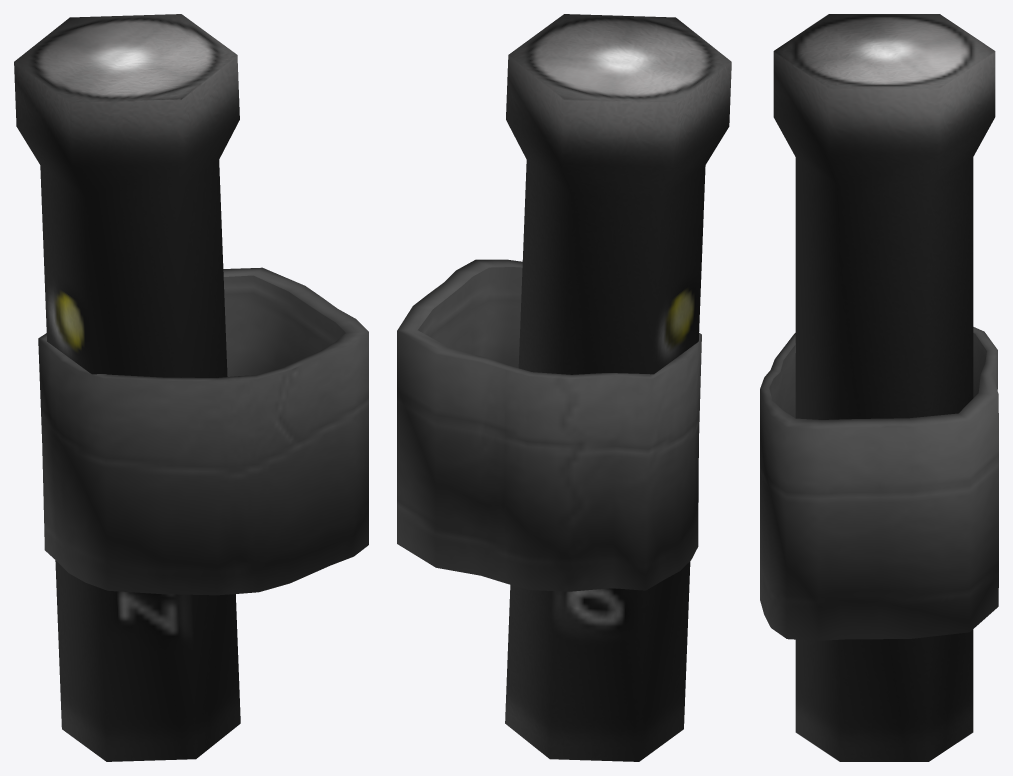
Rendered from TLOG_WeaponFlashlightDoubleBarrel.fbx.
3 views of the same model, side by side, from view 1: azimuth 30°, elevation 25°; view 2: azimuth 150°, elevation 25°; view 3: azimuth 270°, elevation 25° (orthographic).
Visible parts, largest first — view 1: FlashlightFullAutoRifle.003; view 2: FlashlightFullAutoRifle.003; view 3: FlashlightFullAutoRifle.003.
Part boxes in pixels (box(x1,y1,x2,y2)): FlashlightFullAutoRifle.003: box(14, 14, 368, 761); FlashlightFullAutoRifle.003: box(397, 14, 731, 761); FlashlightFullAutoRifle.003: box(760, 14, 998, 761).
Bounding box in the file's own units: 0.0587 × 0.1389 × 0.0435.
